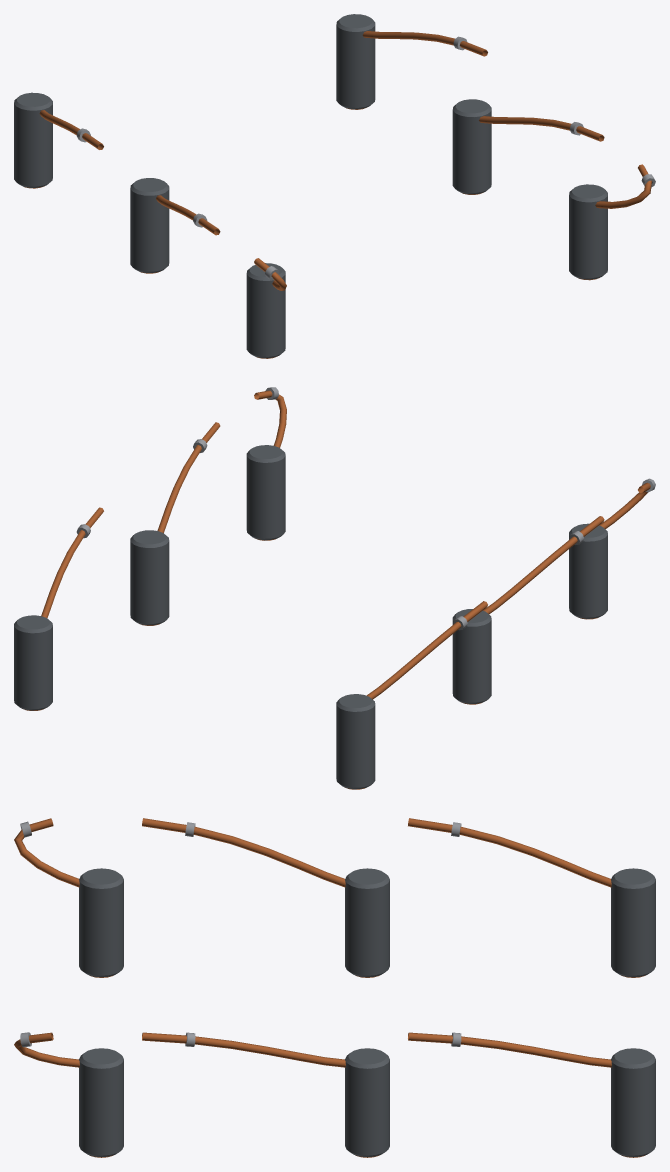
The model's file is ec2_pyro.obj.
3 views of the same model, one above another, from view 1: azimuth 30°, elevation 25°; view 2: azimuth 150°, elevation 25°; view 3: azimuth 270°, elevation 25° (orthographic). The views are drawn at different scales.
Parts seen in each view (by area): view 1: ec2_pyro; view 2: ec2_pyro; view 3: ec2_pyro.
Boxes of the visible parts, x1=… form: ec2_pyro: x1=14, y1=14, x2=655, y2=358; ec2_pyro: x1=14, y1=387, x2=655, y2=789; ec2_pyro: x1=14, y1=818, x2=655, y2=1157.
Size of the model in its own units: 1.26 by 0.3638 by 1.57.
